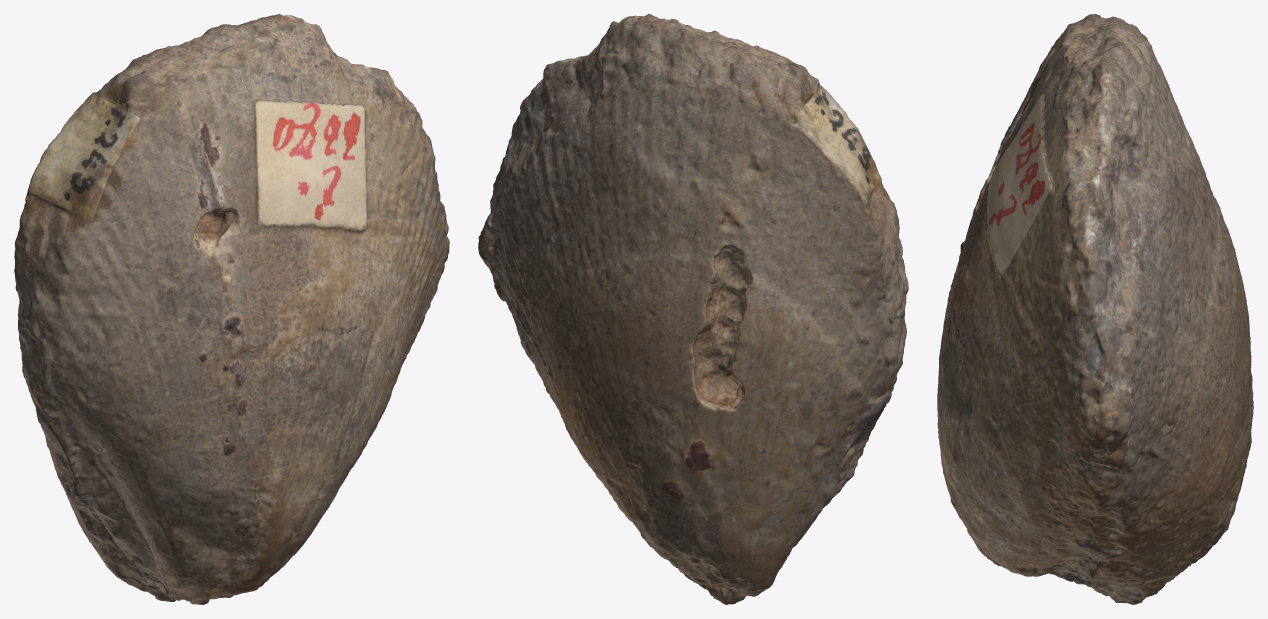
The model's file is EWS0004012.glb.
The picture shows the model from 3 angles, left to right: view 1: azimuth 30°, elevation 25°; view 2: azimuth 150°, elevation 25°; view 3: azimuth 270°, elevation 25°; orthographic projection. The views are drawn at different scales.
Visible parts, largest first — view 1: input; view 2: input; view 3: input.
Boxes of the visible parts, <box> form: input: <box>14,14,449,604</box>; input: <box>478,14,908,604</box>; input: <box>937,14,1253,604</box>.
Size of the model in its own units: 0.0347 by 0.0444 by 0.0216.
1 material, 1 textured.
